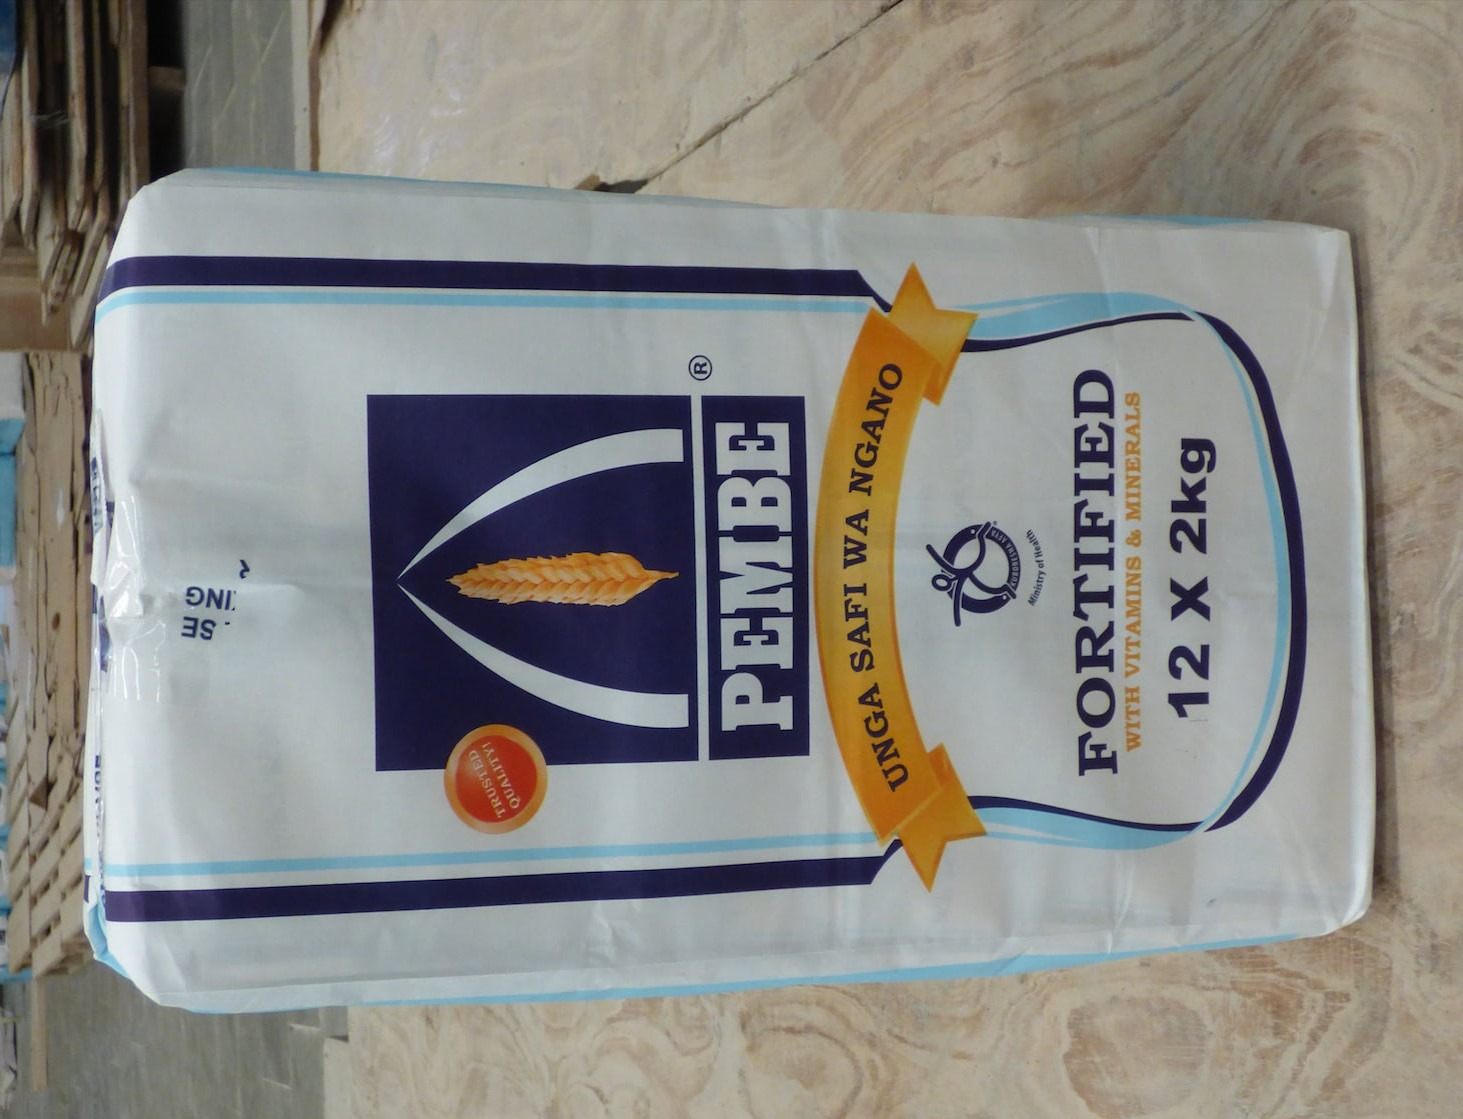wheat_flour_blue_label: (88, 170, 1373, 1001)
